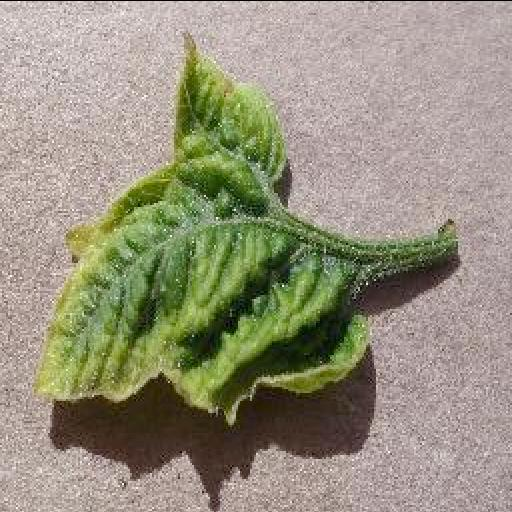disease_tomato: (33, 30, 375, 424)
